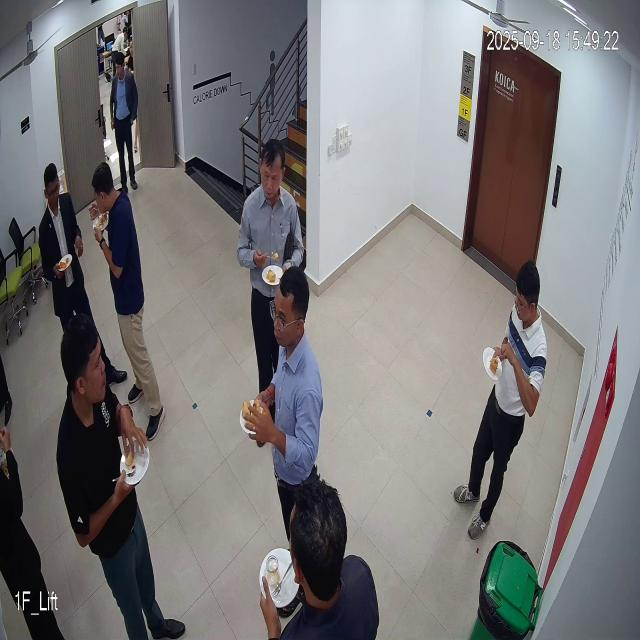face: (270, 270, 308, 350), (504, 265, 542, 334), (257, 141, 287, 208)
